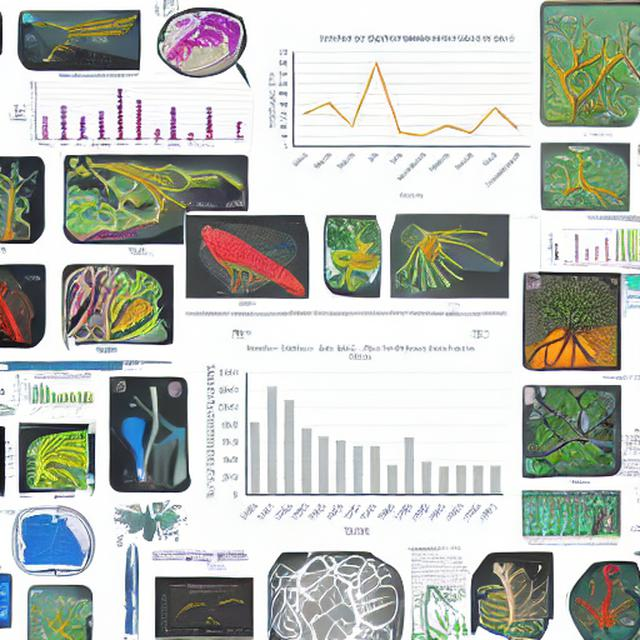Graph: (199, 340, 507, 541), (260, 27, 538, 207), (8, 72, 168, 153), (158, 582, 253, 637), (21, 374, 98, 417), (540, 226, 614, 269)
